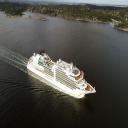cruises: (27, 49, 97, 101)
